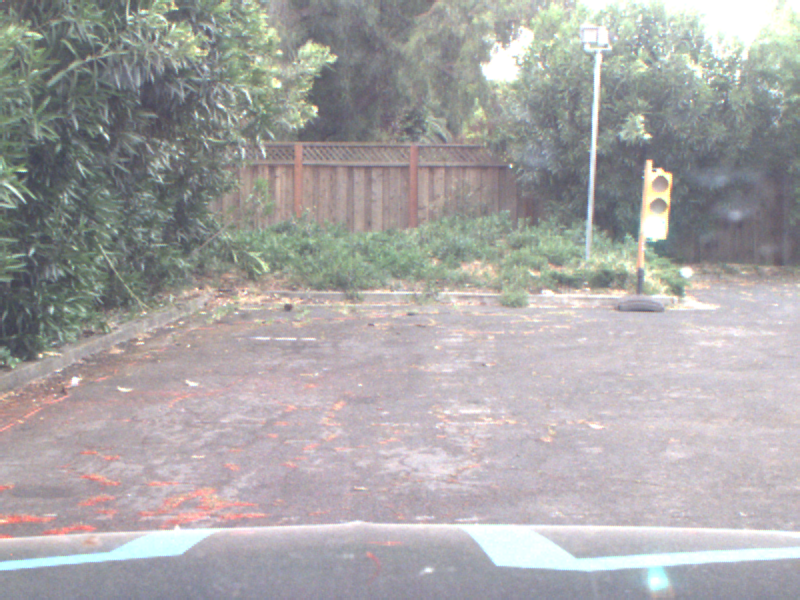Green: (642, 167, 668, 246)
